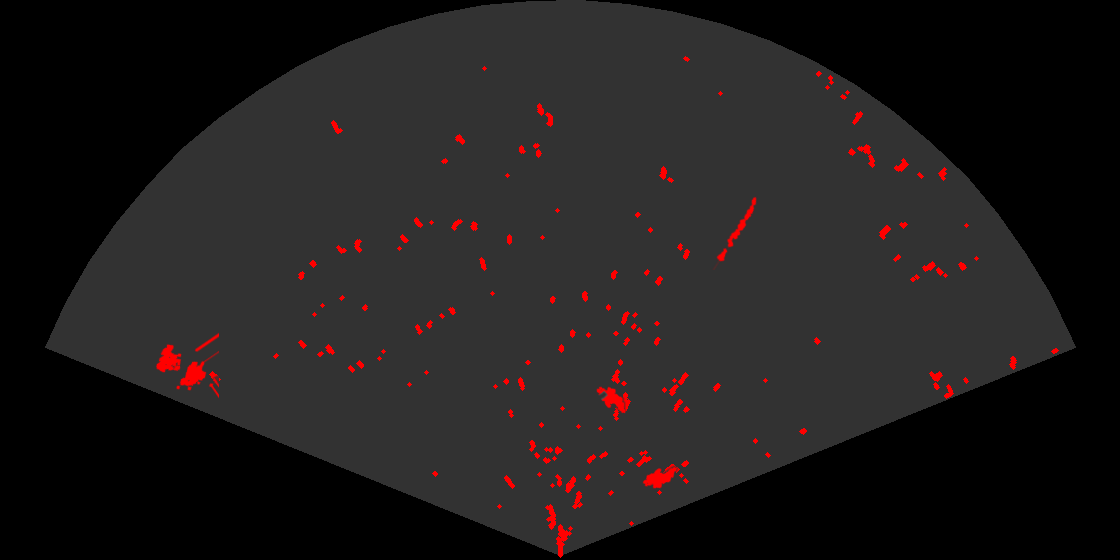AUV: (595, 385, 627, 415), (641, 465, 679, 490)
cage: (154, 331, 219, 400)
chain: (711, 195, 758, 270)
